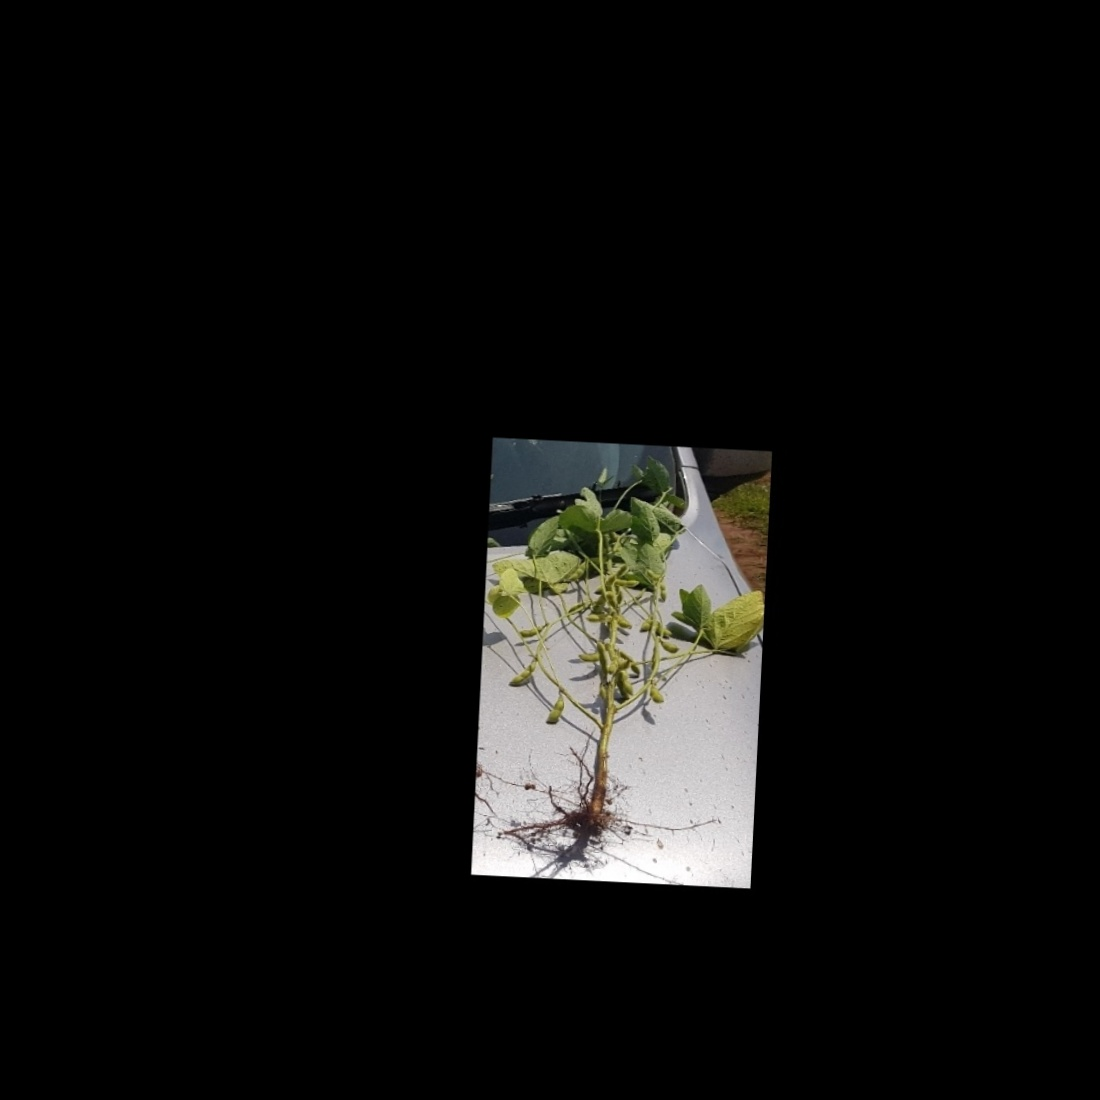pod: (505, 651, 539, 692), (542, 688, 566, 730), (565, 556, 588, 587), (516, 621, 550, 640), (646, 683, 670, 709), (611, 576, 643, 590), (658, 639, 682, 655)
soy: (484, 457, 742, 854)
